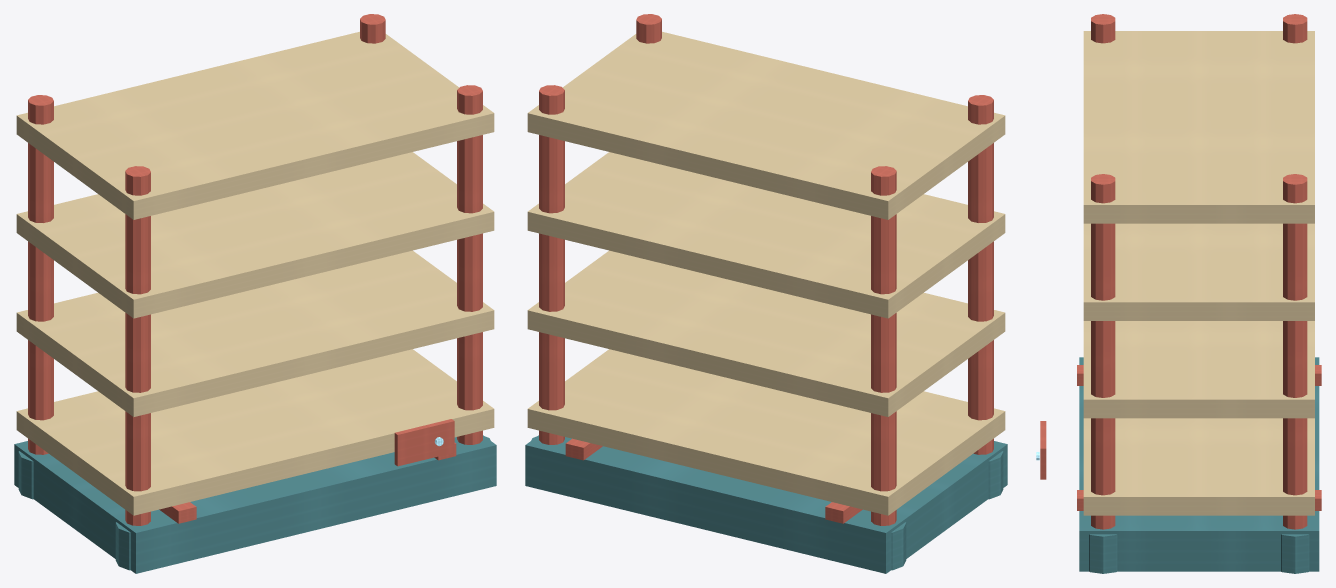
File: atlas100-s076-a06.lod1.glb
3 renders of one model, left to right at view 1: azimuth 30°, elevation 25°; view 2: azimuth 150°, elevation 25°; view 3: azimuth 270°, elevation 25°, orthographic.
Visible parts, largest first — view 1: atlas100-s076-a06:part-014, atlas100-s076-a06:part-012, atlas100-s076-a06:part-013, atlas100-s076-a06:part-011, atlas100-s076-a06:part-000, atlas100-s076-a06:part-005, atlas100-s076-a06:part-009, atlas100-s076-a06:part-003, atlas100-s076-a06:part-015, atlas100-s076-a06:part-007, atlas100-s076-a06:part-004, atlas100-s076-a06:part-006; view 2: atlas100-s076-a06:part-014, atlas100-s076-a06:part-012, atlas100-s076-a06:part-011, atlas100-s076-a06:part-013, atlas100-s076-a06:part-000, atlas100-s076-a06:part-003, atlas100-s076-a06:part-007, atlas100-s076-a06:part-005, atlas100-s076-a06:part-009, atlas100-s076-a06:part-006, atlas100-s076-a06:part-004; view 3: atlas100-s076-a06:part-014, atlas100-s076-a06:part-012, atlas100-s076-a06:part-011, atlas100-s076-a06:part-013, atlas100-s076-a06:part-000, atlas100-s076-a06:part-007, atlas100-s076-a06:part-009, atlas100-s076-a06:part-008, atlas100-s076-a06:part-010, atlas100-s076-a06:part-003, atlas100-s076-a06:part-005, atlas100-s076-a06:part-015.
Part boxes in pixels (x1,y1,x2,y2): atlas100-s076-a06:part-014: (16, 31, 494, 219); atlas100-s076-a06:part-012: (16, 250, 494, 416); atlas100-s076-a06:part-013: (16, 152, 494, 318); atlas100-s076-a06:part-011: (16, 349, 494, 515); atlas100-s076-a06:part-000: (14, 435, 496, 573); atlas100-s076-a06:part-005: (125, 166, 150, 525); atlas100-s076-a06:part-009: (457, 85, 482, 444); atlas100-s076-a06:part-003: (28, 95, 53, 454); atlas100-s076-a06:part-015: (394, 419, 454, 466); atlas100-s076-a06:part-007: (360, 14, 385, 43); atlas100-s076-a06:part-004: (18, 451, 33, 499); atlas100-s076-a06:part-006: (115, 522, 130, 570); atlas100-s076-a06:part-014: (527, 31, 1005, 219); atlas100-s076-a06:part-012: (527, 250, 1005, 416); atlas100-s076-a06:part-011: (527, 349, 1005, 515); atlas100-s076-a06:part-013: (527, 152, 1005, 318); atlas100-s076-a06:part-000: (525, 435, 1007, 573); atlas100-s076-a06:part-003: (871, 166, 896, 525); atlas100-s076-a06:part-007: (539, 85, 564, 444); atlas100-s076-a06:part-005: (968, 95, 993, 454); atlas100-s076-a06:part-009: (636, 14, 661, 43); atlas100-s076-a06:part-006: (988, 451, 1003, 499); atlas100-s076-a06:part-004: (891, 522, 906, 570); atlas100-s076-a06:part-014: (1083, 31, 1314, 223); atlas100-s076-a06:part-012: (1083, 321, 1314, 418); atlas100-s076-a06:part-011: (1083, 418, 1314, 515); atlas100-s076-a06:part-013: (1083, 223, 1314, 320); atlas100-s076-a06:part-000: (1079, 357, 1319, 571); atlas100-s076-a06:part-007: (1283, 174, 1307, 529); atlas100-s076-a06:part-009: (1091, 174, 1115, 529); atlas100-s076-a06:part-008: (1281, 534, 1309, 573); atlas100-s076-a06:part-010: (1089, 534, 1117, 573); atlas100-s076-a06:part-003: (1283, 14, 1307, 43); atlas100-s076-a06:part-005: (1091, 14, 1115, 43); atlas100-s076-a06:part-015: (1040, 421, 1046, 479).
Bounding box in the file's own units: 2.47 × 2.48 × 1.66.
Materials: 4 (4 with a texture image).
